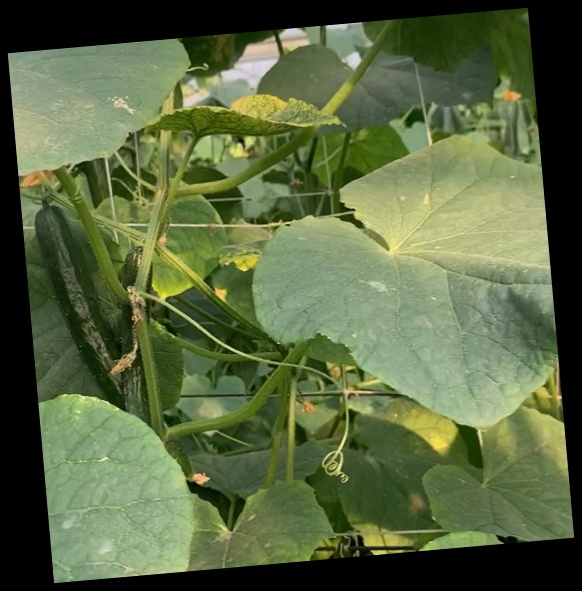Kumquat: (36, 201, 165, 439)
